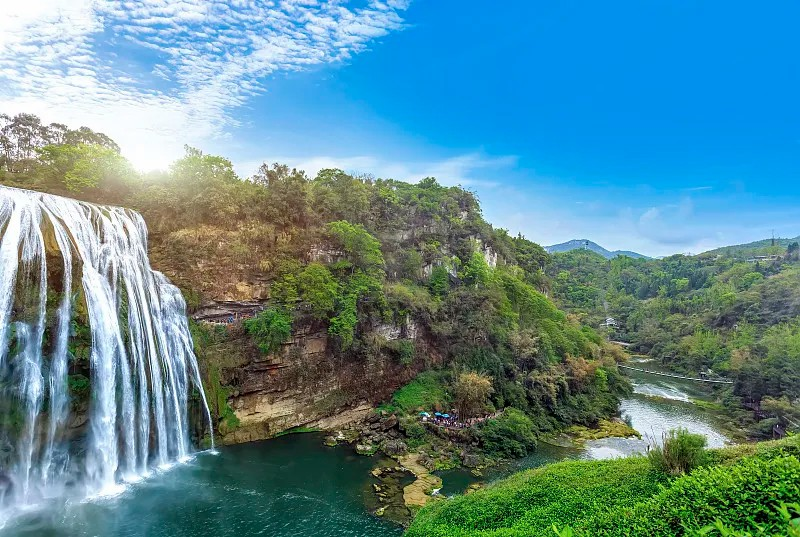Huangguoshu: (1, 185, 215, 515)
